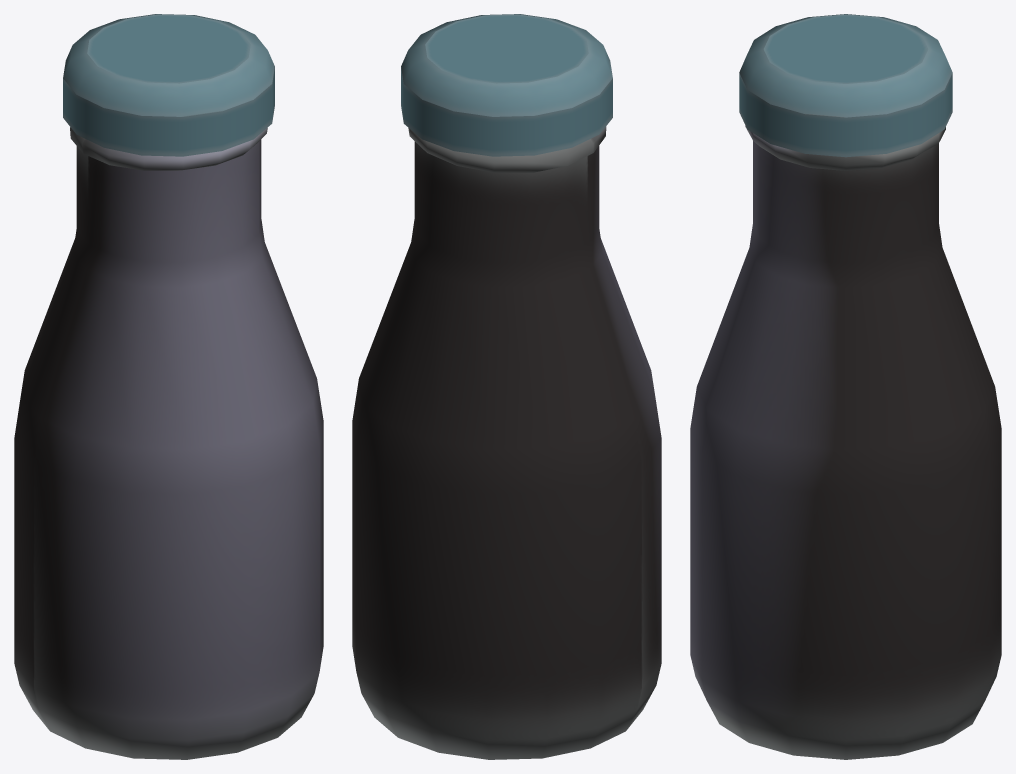
The model's file is Milk.fbx.
3 views of the same model, side by side, from view 1: azimuth 30°, elevation 25°; view 2: azimuth 150°, elevation 25°; view 3: azimuth 270°, elevation 25° (orthographic).
Visible parts, largest first — view 1: Milk-Glass, Cover-Milk; view 2: Milk-Glass, Cover-Milk; view 3: Milk-Glass, Cover-Milk.
Boxes of the visible parts, bbox=[...] form: Milk-Glass: bbox=[14, 127, 323, 759]; Cover-Milk: bbox=[63, 14, 274, 156]; Milk-Glass: bbox=[352, 126, 661, 759]; Cover-Milk: bbox=[401, 14, 612, 156]; Milk-Glass: bbox=[690, 125, 1001, 759]; Cover-Milk: bbox=[739, 14, 952, 157].
Bounding box in the file's own units: 0.6643 × 1.54 × 0.6643.
